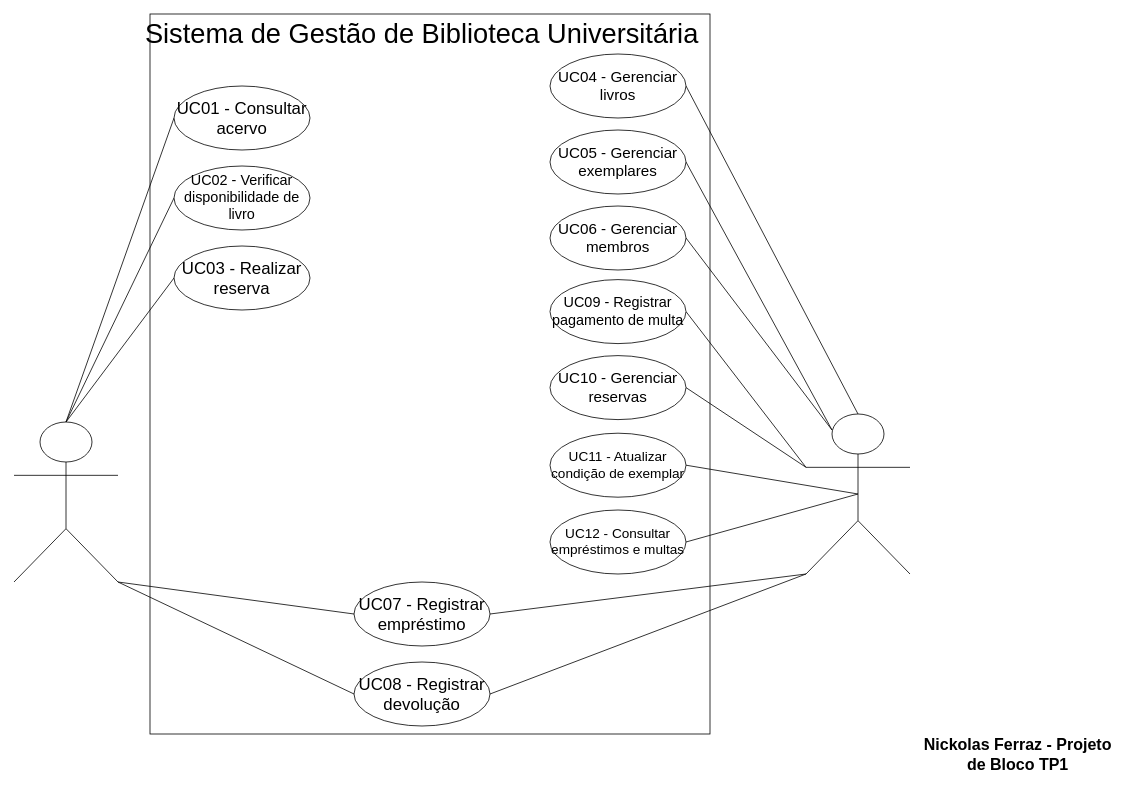
The diagram is 1132 pixels wide and 812 high, and some of its shapes have lost their labels. Here are the shapes that lost their labels. From the top down, the centre of each, then its label:
At point 65,501: "Membro".
At point 857,493: "Bibliotecário / Administrador".
